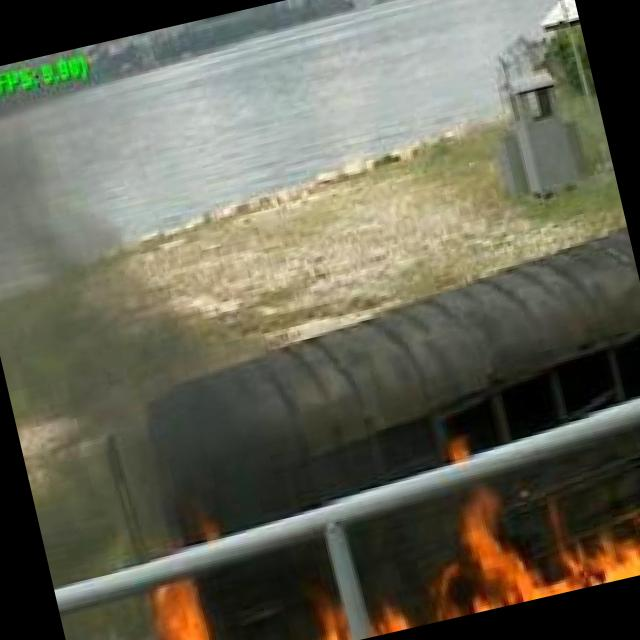Fire: (418, 463, 640, 620), (65, 576, 252, 640), (303, 561, 425, 640)
Smoke: (0, 54, 306, 507)
